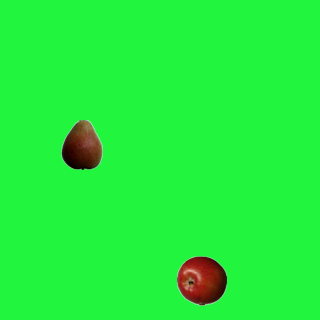Apple Braeburn: (176, 255, 226, 305)
Pear Forelle: (56, 119, 106, 169)
